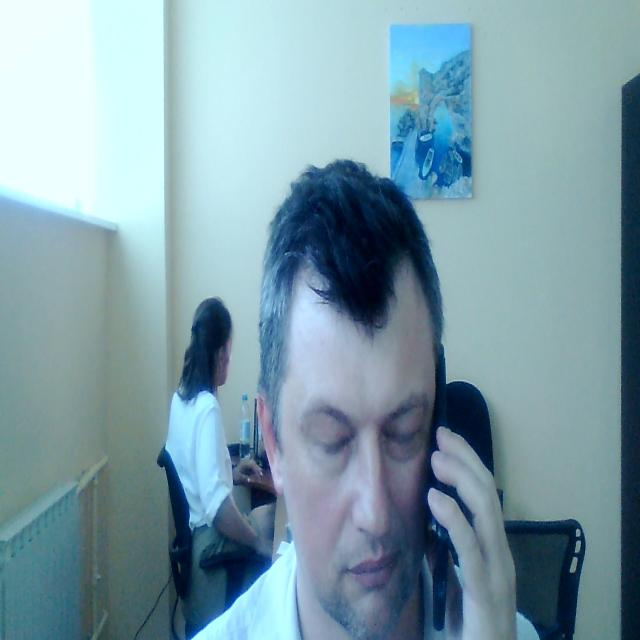phone: (428, 342, 452, 634)
